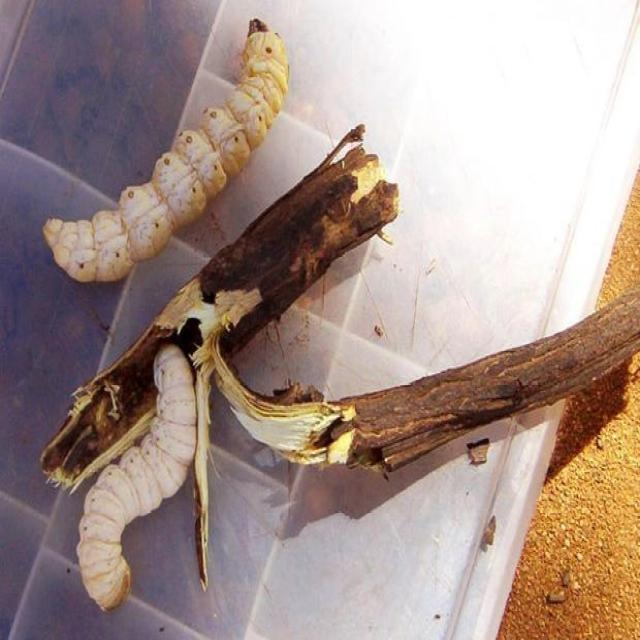grub: (43, 18, 303, 287), (76, 342, 229, 610)
